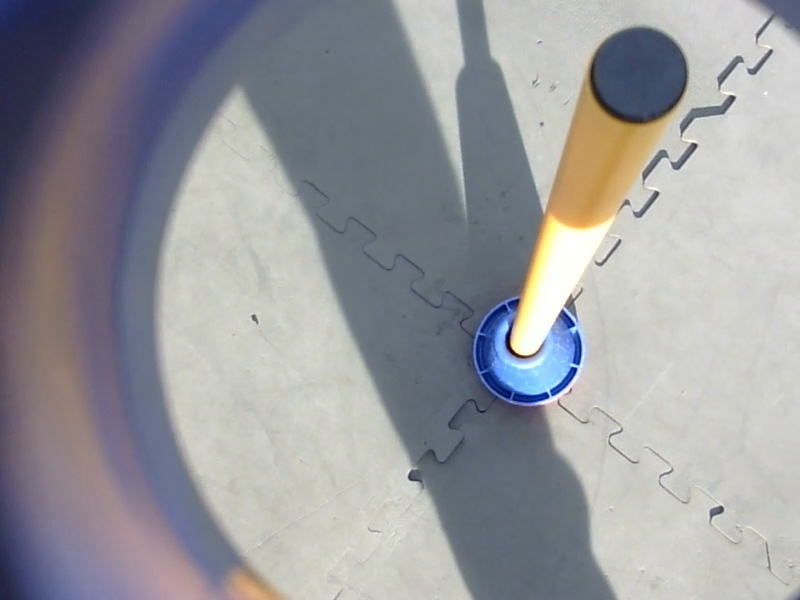tip: (579, 20, 697, 131)
